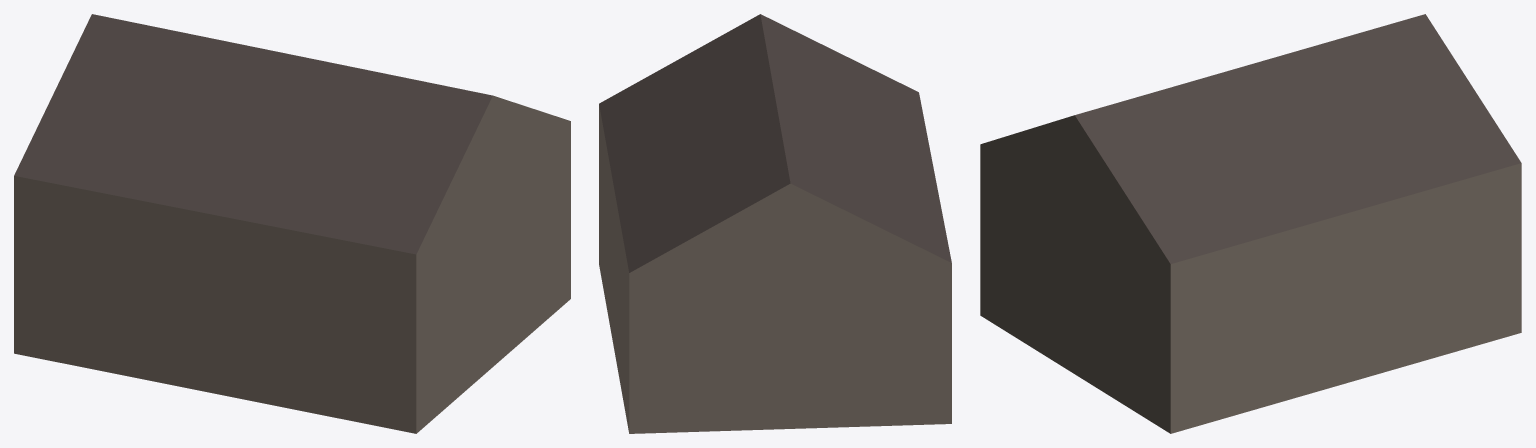
The picture shows the model from 3 angles, left to right: view 1: azimuth 30°, elevation 25°; view 2: azimuth 150°, elevation 25°; view 3: azimuth 270°, elevation 25°; orthographic projection. The views are drawn at different scales.
Parts seen in each view (by area): view 1: HP-w1197556194; view 2: HP-w1197556194; view 3: HP-w1197556194.
Part boxes in pixels (x1,y1,x2,y2): HP-w1197556194: [14, 14, 570, 433]; HP-w1197556194: [599, 14, 951, 433]; HP-w1197556194: [980, 14, 1521, 433].
Size of the model in its own units: 16.72 by 9.16 by 17.34.
